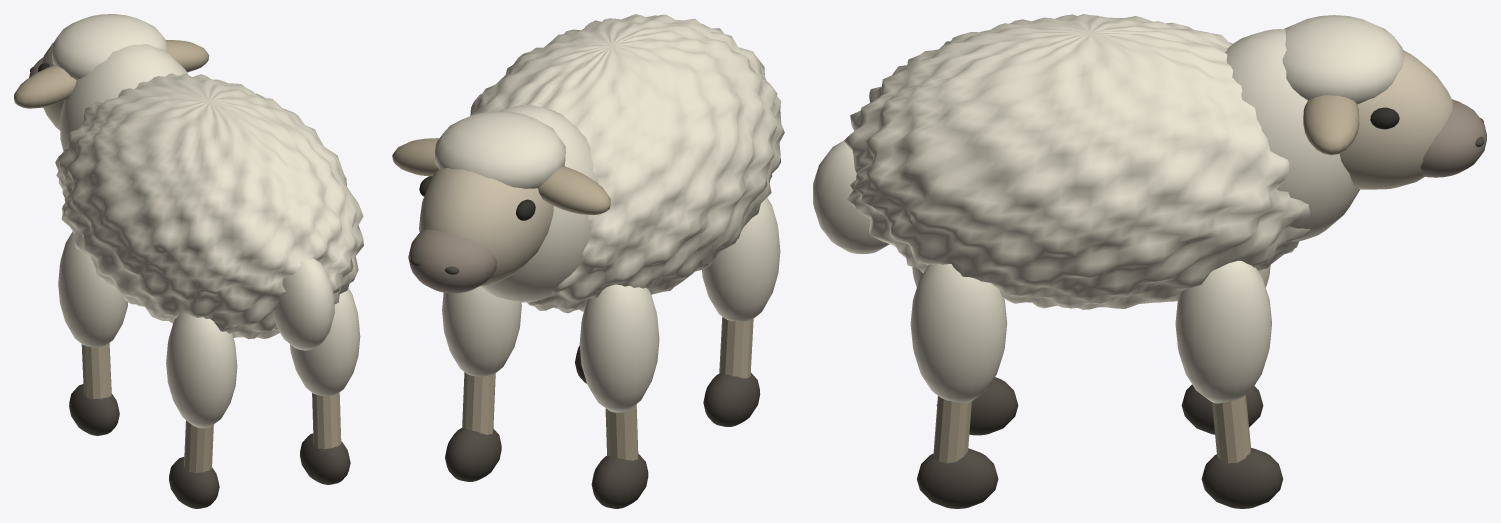
File: sheep.glb
3 views of the same model, side by side, from view 1: azimuth 30°, elevation 25°; view 2: azimuth 150°, elevation 25°; view 3: azimuth 270°, elevation 25° (orthographic). The views are drawn at different scales.
Parts seen in each view (by area): view 1: Sheep; view 2: Sheep; view 3: Sheep.
Part boxes in pixels (x1,y1,x2,y2): Sheep: [14, 14, 363, 508]; Sheep: [392, 14, 784, 508]; Sheep: [813, 14, 1486, 508].
Size of the model in its own units: 0.4368 by 0.6471 by 0.891.
